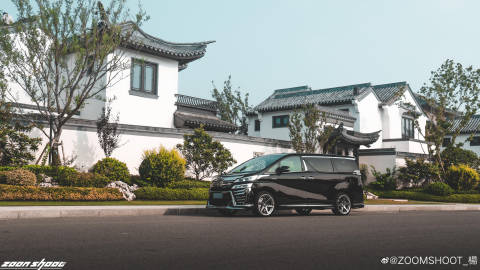other: (206, 147, 365, 211)
